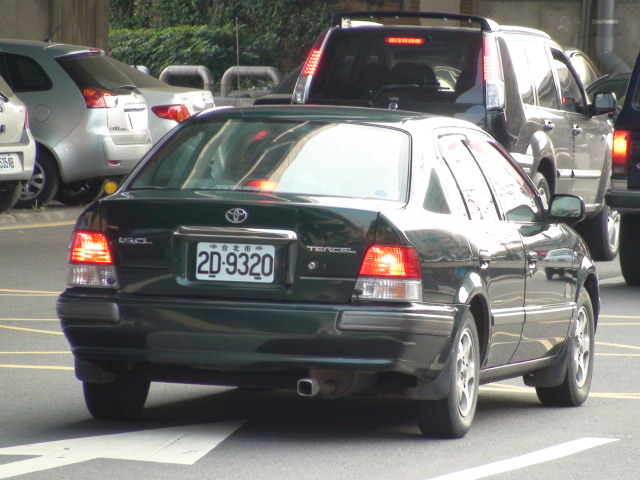plate: (193, 239, 279, 286)
